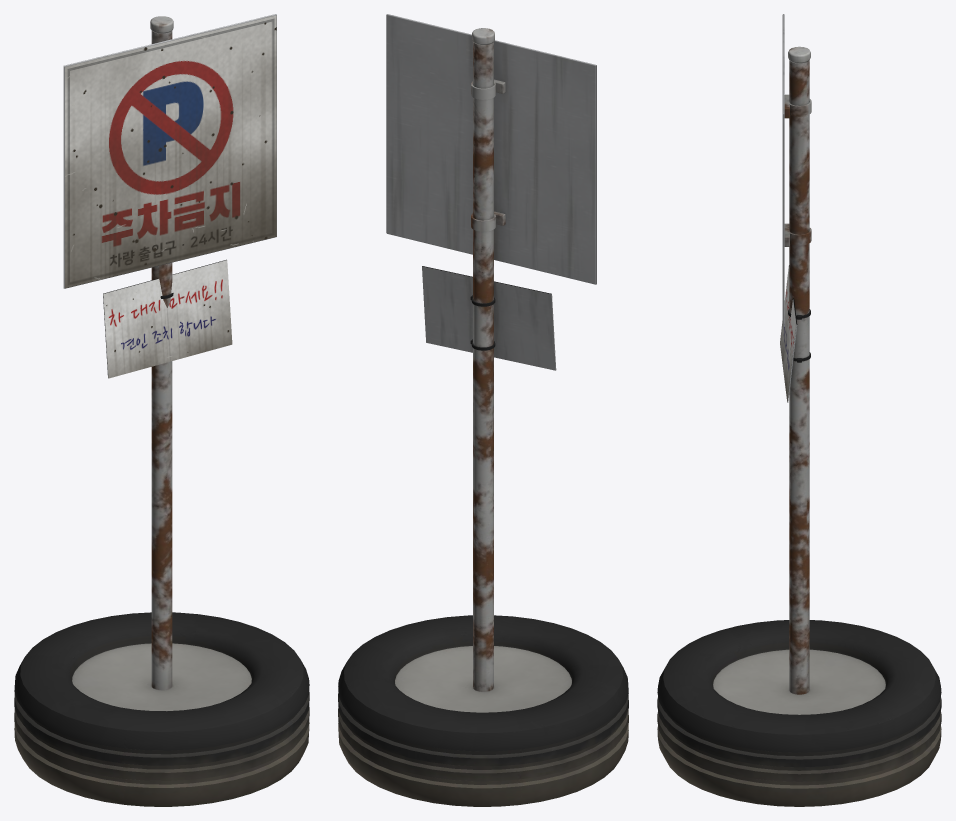
File: StreetNoParking.fbx
3 renders of one model, left to right at view 1: azimuth 30°, elevation 25°; view 2: azimuth 150°, elevation 25°; view 3: azimuth 270°, elevation 25°, orthographic. The views are drawn at different scales.
Visible parts, largest first — view 1: StreetNoParking_Body; view 2: StreetNoParking_Body; view 3: StreetNoParking_Body.
Part boxes in pixels (<box>): StreetNoParking_Body: <box>14,14,309,806</box>; StreetNoParking_Body: <box>338,14,628,806</box>; StreetNoParking_Body: <box>657,14,941,806</box>.
Bounding box in the file's own units: 0.6 × 1.64 × 0.6.
